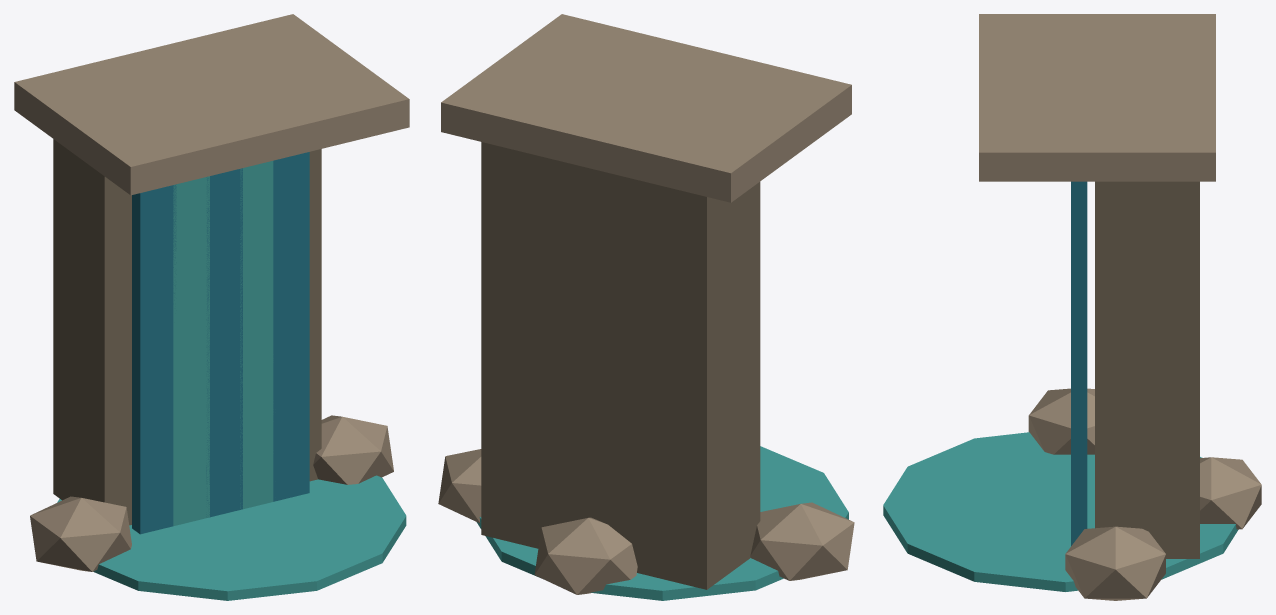
Rendered from Tropical_WaterfallCascade_Simple.glb.
The picture shows the model from 3 angles, left to right: view 1: azimuth 30°, elevation 25°; view 2: azimuth 150°, elevation 25°; view 3: azimuth 270°, elevation 25°; orthographic projection. The views are drawn at different scales.
Visible parts, largest first — view 1: Tropical_WaterfallCascade_Simple; view 2: Tropical_WaterfallCascade_Simple; view 3: Tropical_WaterfallCascade_Simple.
Boxes of the visible parts, <box> form: Tropical_WaterfallCascade_Simple: <box>14,14,409,600</box>; Tropical_WaterfallCascade_Simple: <box>438,14,854,600</box>; Tropical_WaterfallCascade_Simple: <box>883,14,1261,600</box>.
Size of the model in its own units: 4.76 by 5.43 by 4.15.
